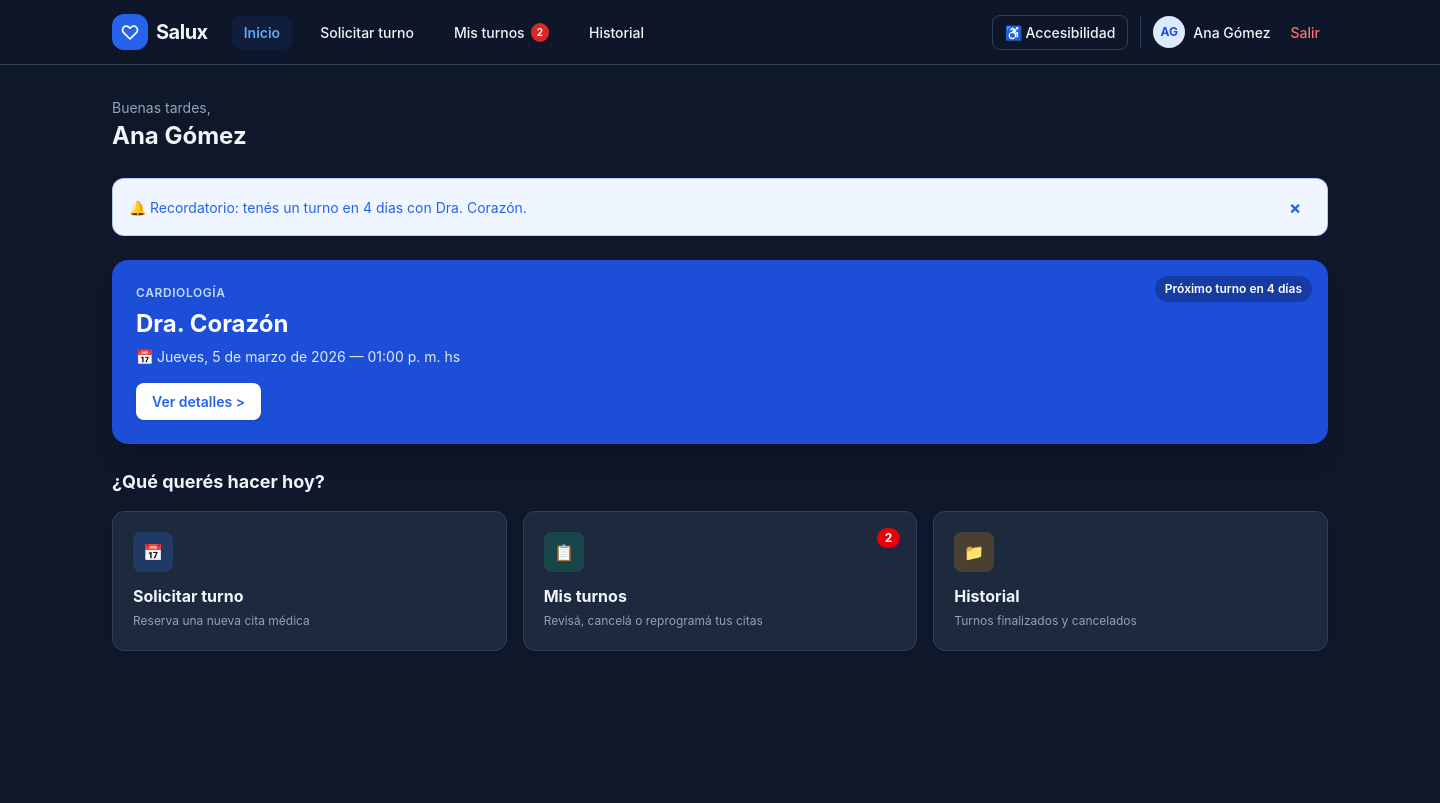
Test: paciente › mis turnos › los filtros muestran solo los turnos de ese estado
Expected: the text "🔔 Recordatorio: tenés un turno en 4 días con Dra. Corazón." is shown, [129, 196, 527, 218]
Click the button "Mis turnos 2" at point(501, 32), box [442, 16, 561, 48]
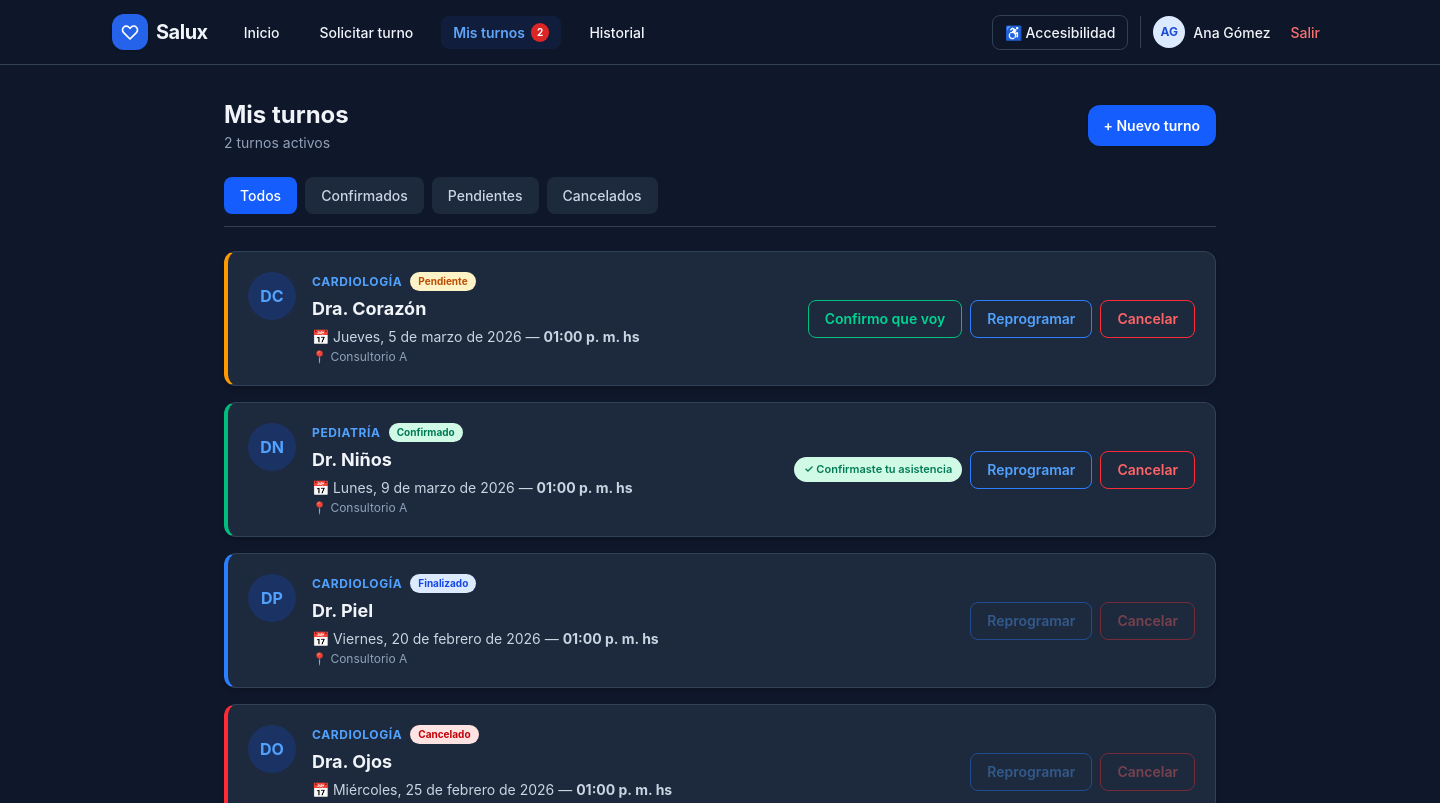
Click the button "Confirmados" at point(365, 196), box [305, 177, 424, 214]
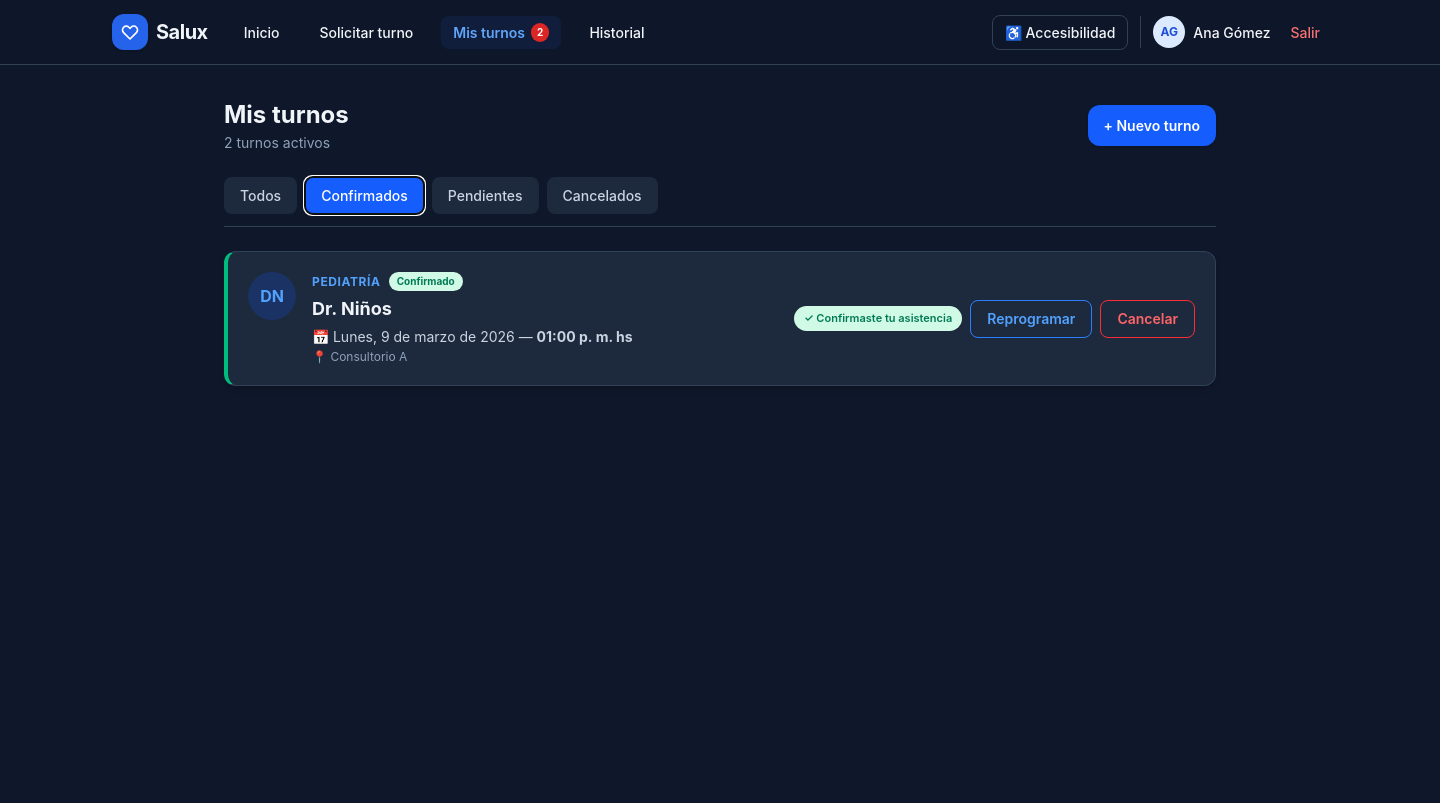
Expected: the heading "Dr. Niños" is shown, [312, 298, 392, 319]
Expected: the heading "Dra. Corazón" is gone
Click the button "Pendientes" at point(485, 196), box [432, 177, 539, 214]
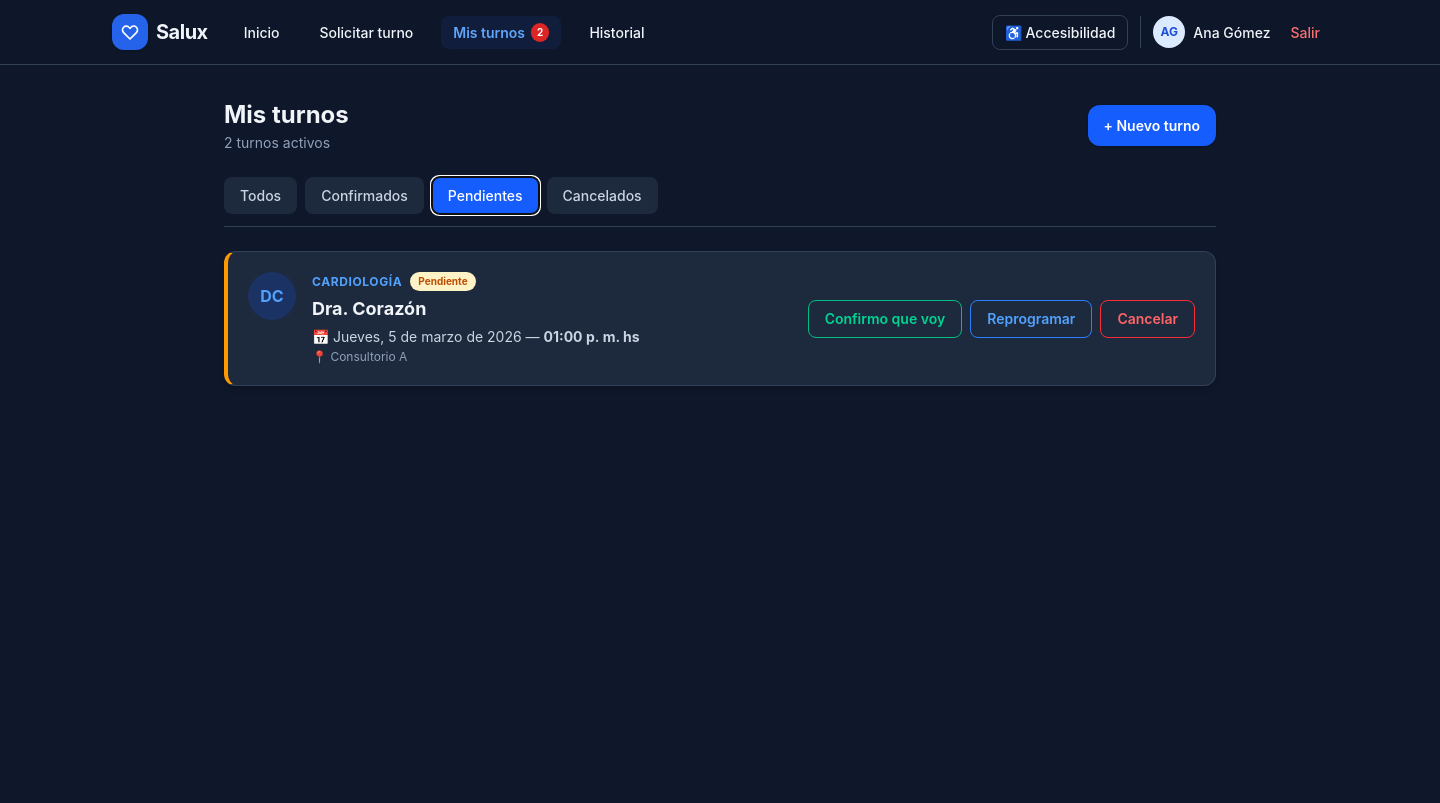
Expected: the heading "Dra. Corazón" is shown, [312, 298, 426, 319]
Expected: the heading "Dr. Niños" is gone
Click the button "Cancelados" at point(602, 196), box [547, 177, 658, 214]
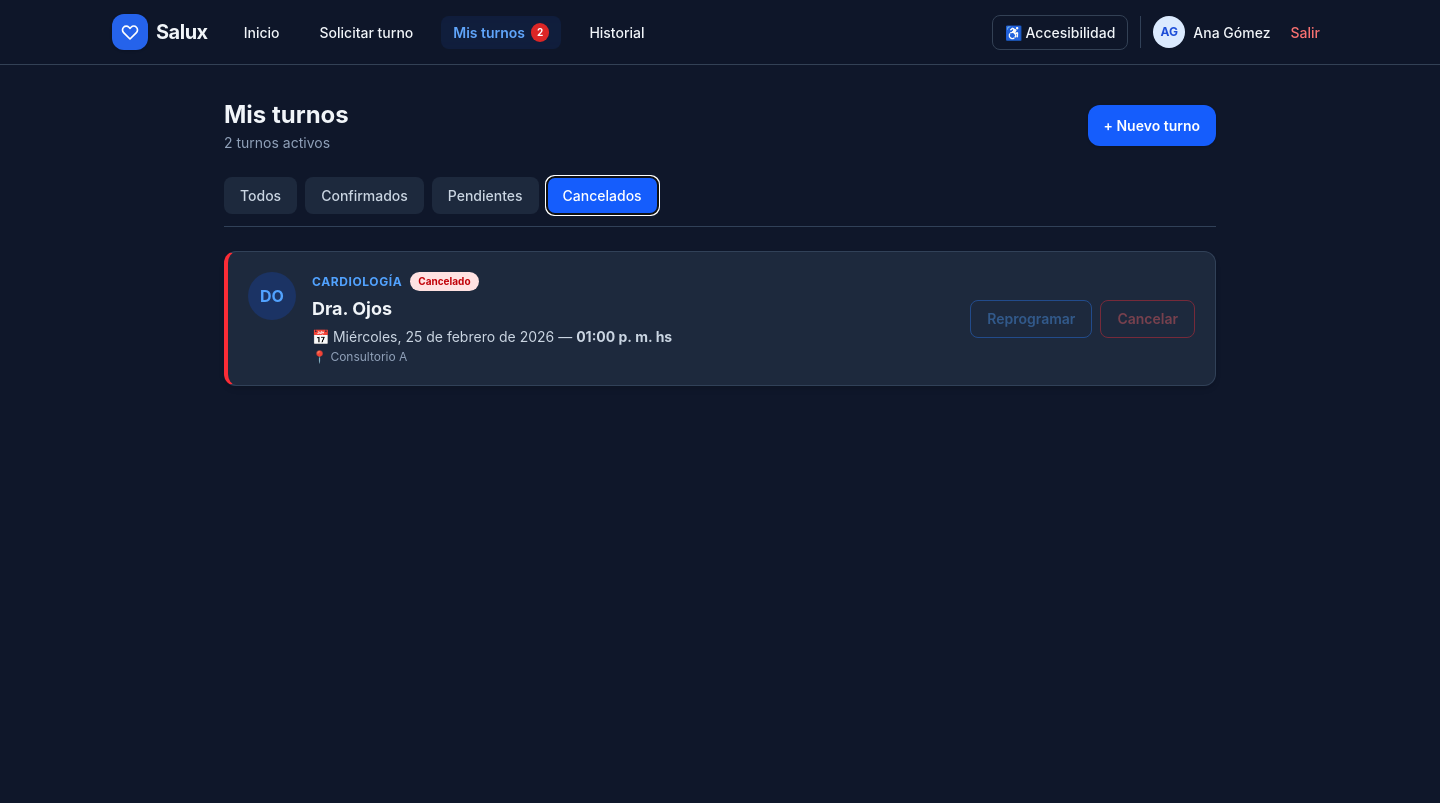
Expected: the heading "Dra. Ojos" is shown, [312, 298, 392, 319]
Expected: the heading "Dra. Corazón" is gone
